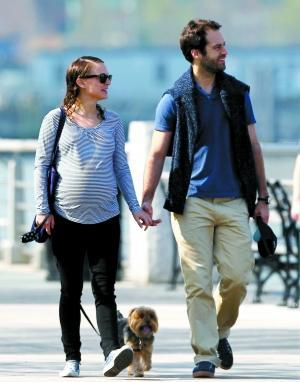up: (137, 14, 277, 381), (23, 51, 157, 380)
